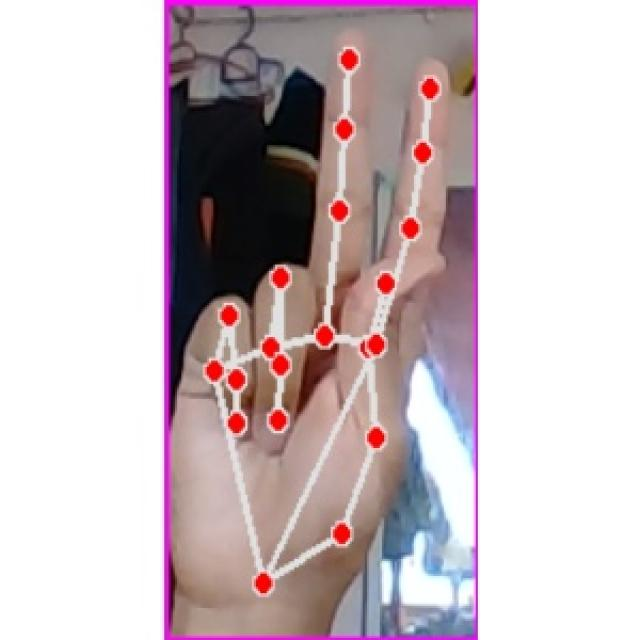K: (176, 23, 459, 622)
